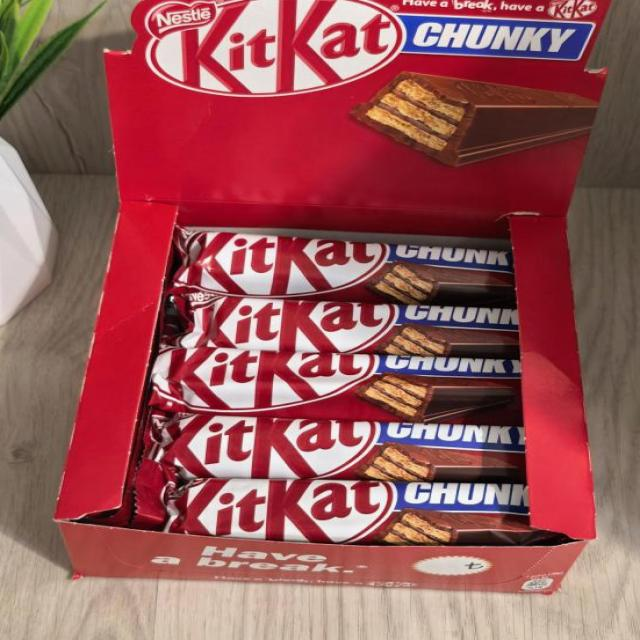supermarket-product: (152, 207, 414, 547)
